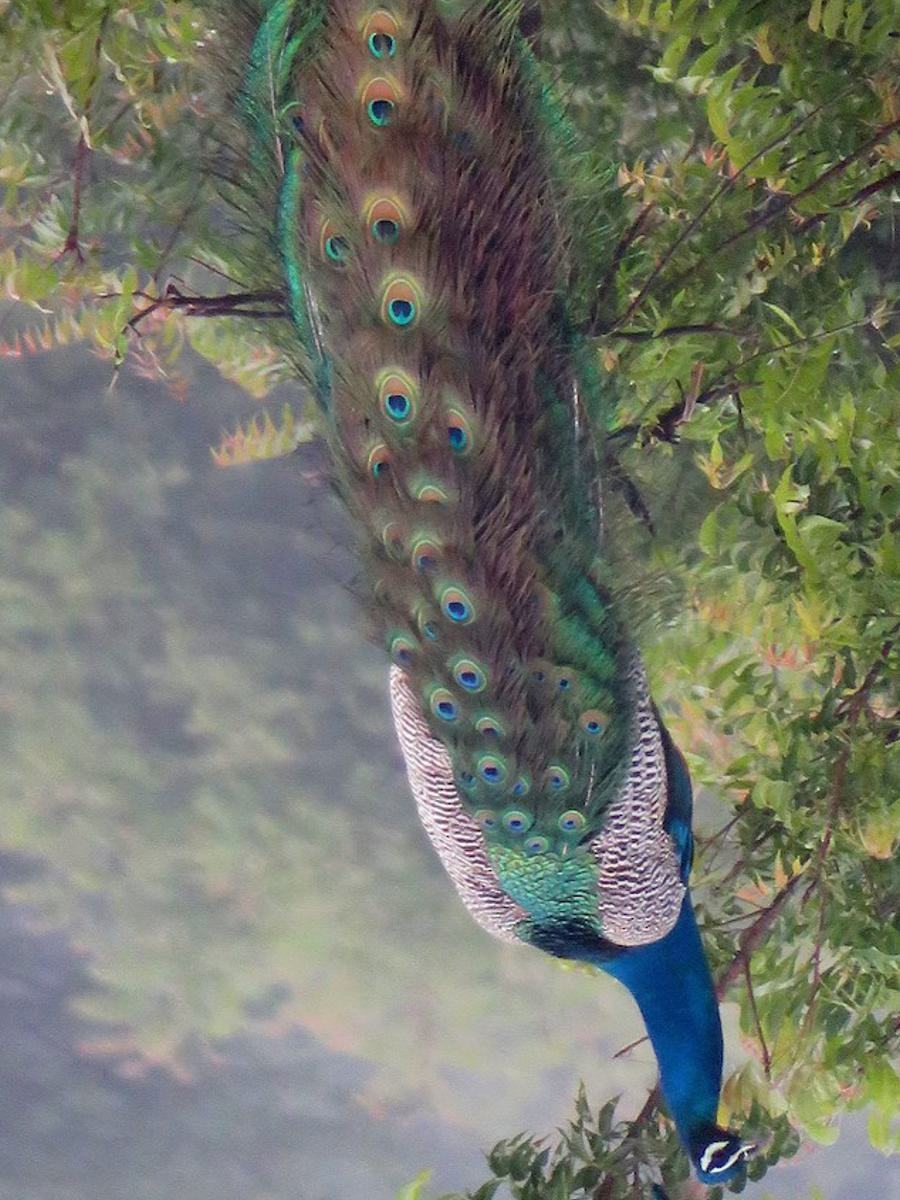peacock: (221, 1, 770, 1175)
